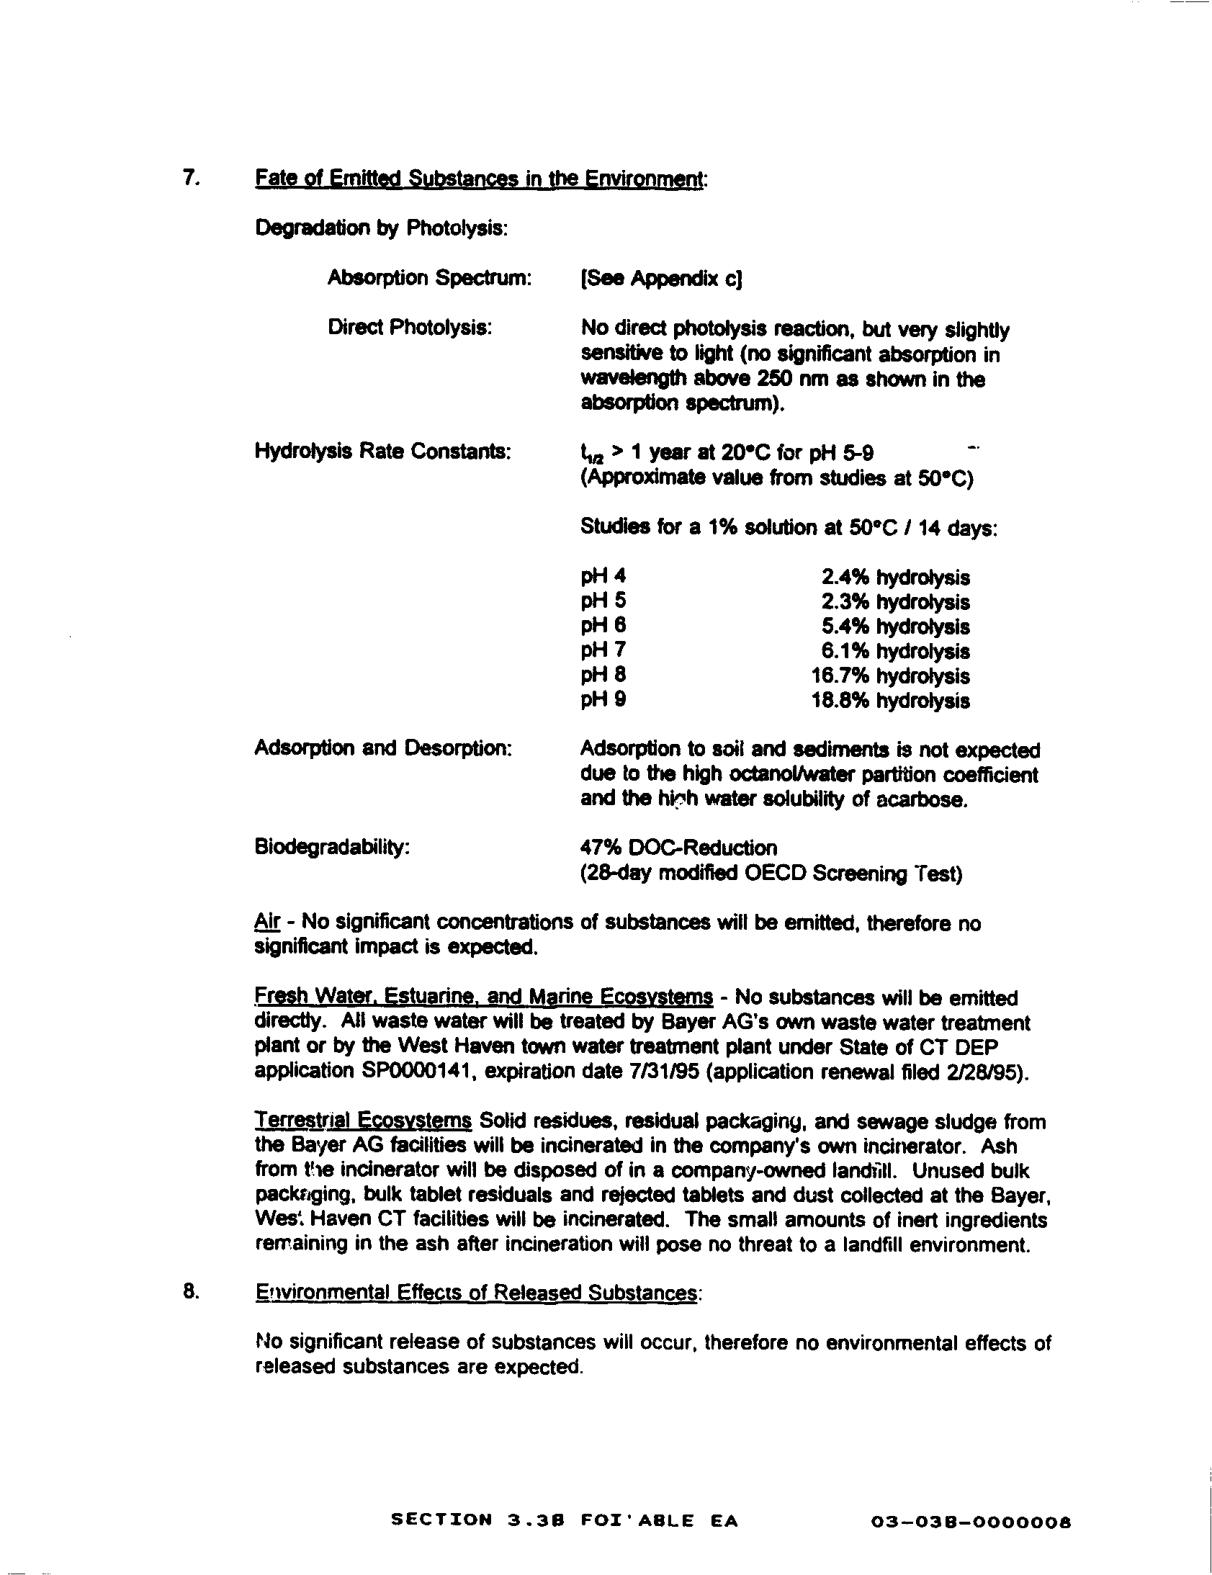nolines: (253, 264, 1041, 886)
